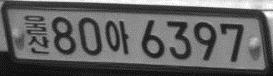0: (77, 17, 104, 56)
3: (165, 19, 191, 60)
6: (139, 18, 165, 58)
7: (219, 22, 244, 63)
8: (50, 16, 76, 54)
9: (193, 21, 217, 61)
아: (104, 19, 130, 55)
울산_V: (22, 14, 51, 55)
